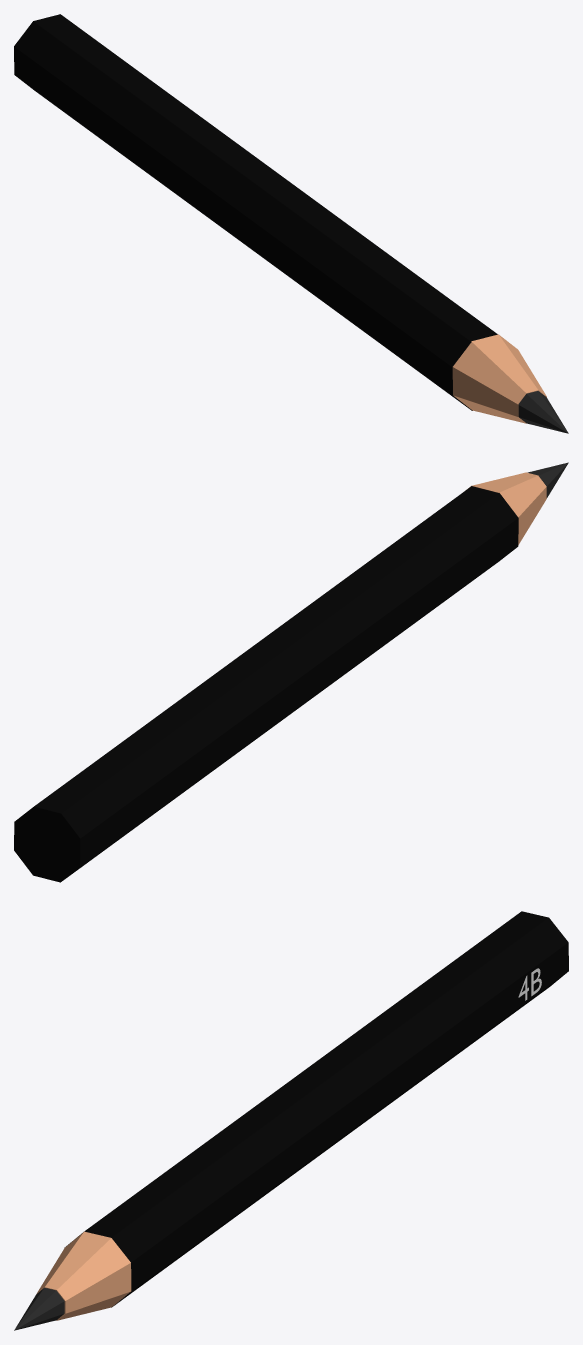
Rendered from pencil.glb.
3 renders of one model, top to bottom at view 1: azimuth 30°, elevation 25°; view 2: azimuth 150°, elevation 25°; view 3: azimuth 330°, elevation 25°, orthographic.
Parts seen in each view (by area): view 1: body; view 2: body; view 3: body.
Part boxes in pixels (x1,y1,x2,y2): body: (14, 14, 568, 433); body: (14, 462, 568, 882); body: (14, 911, 568, 1330).
Size of the model in its own units: 0.9021 by 0.9005 by 12.21.
